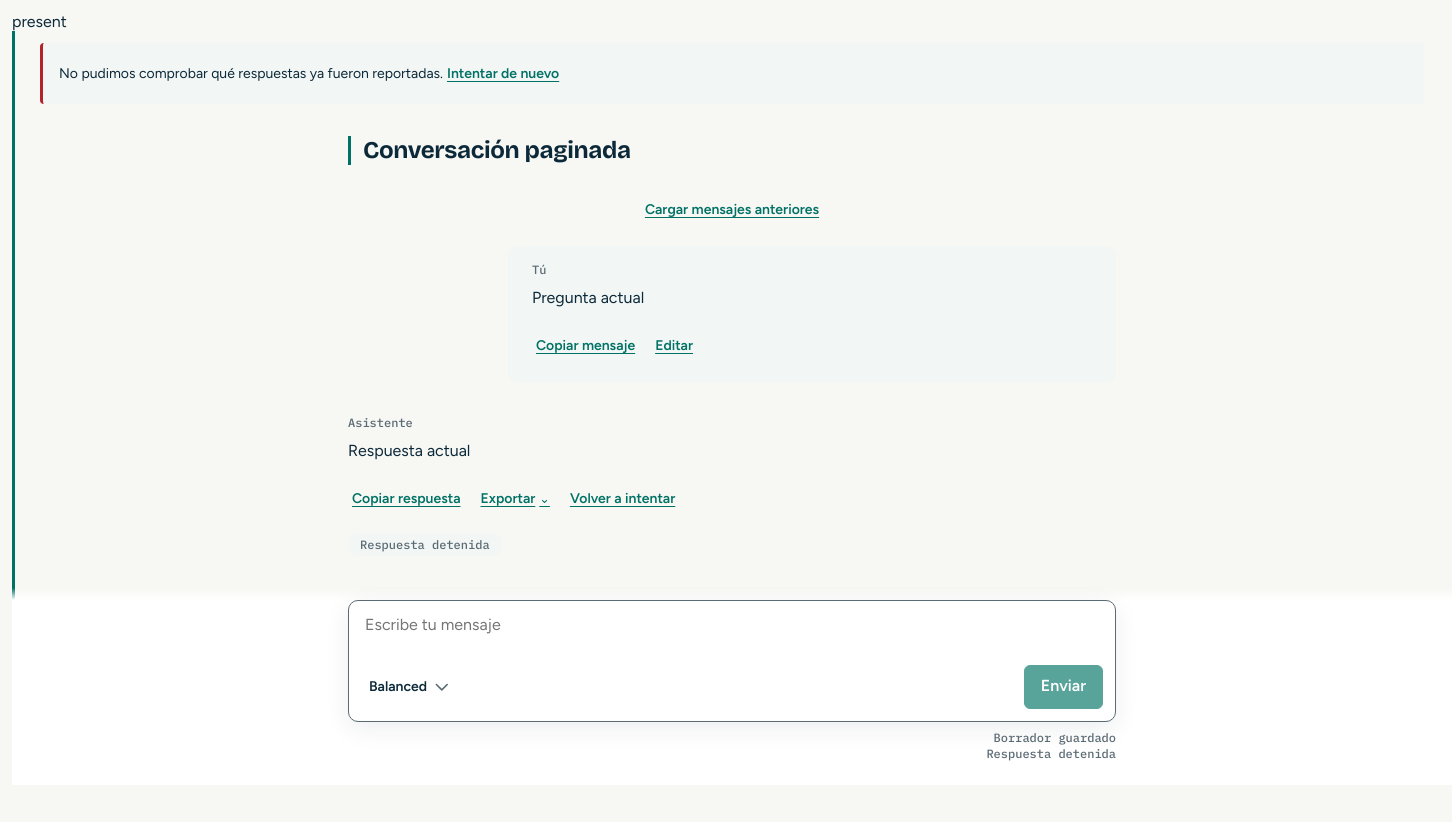
Test: conversation page › loads and merges bounded response states for every message page
Expected: the text "Respuesta detenida" is shown, [348,533,502,556]
Click the button "Cargar mensajes anteriores" at coordinates (732, 209), box [641,197,823,222]
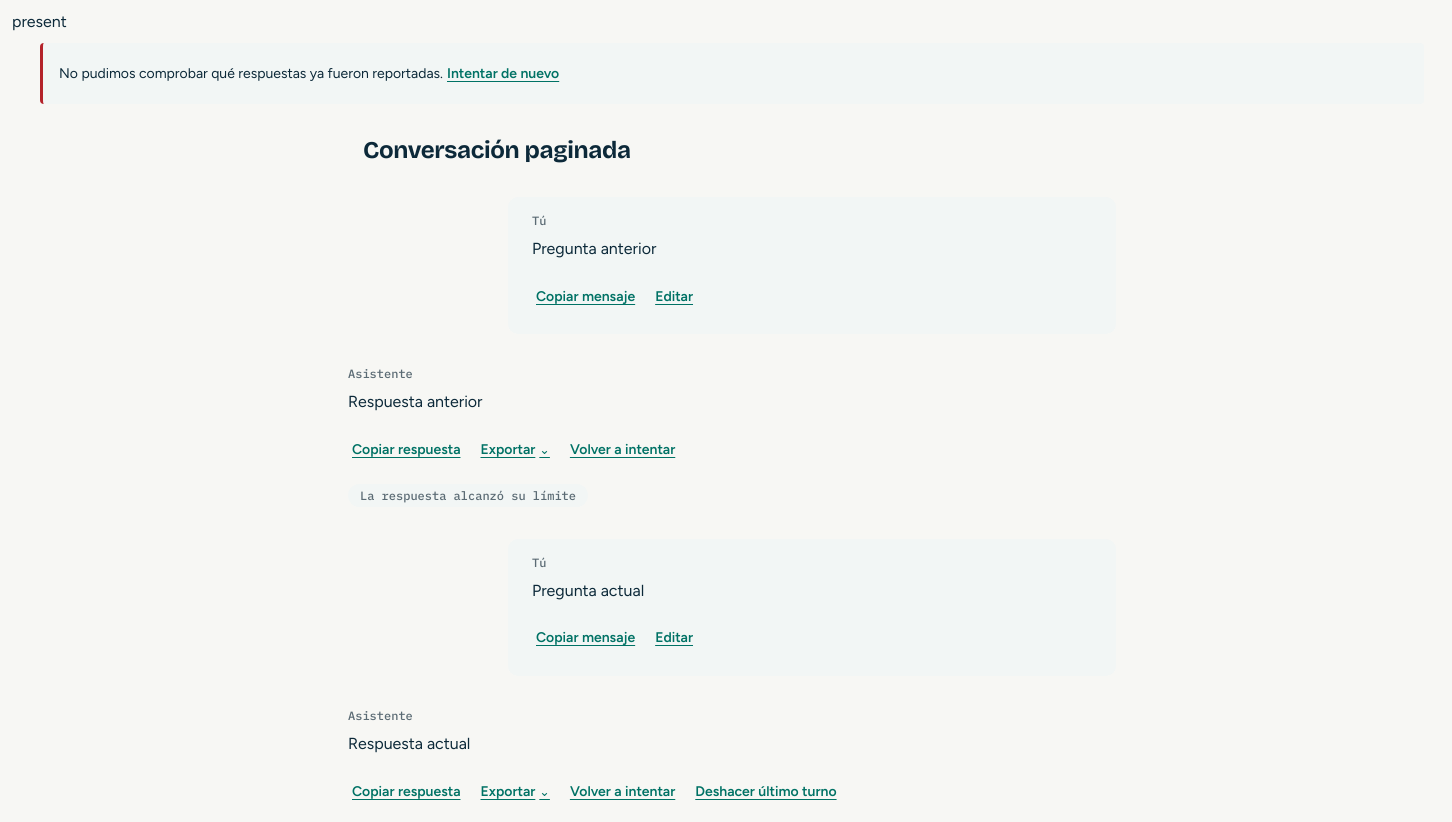
Expected: the text "La respuesta alcanzó su límite" is shown, [348,484,588,507]
